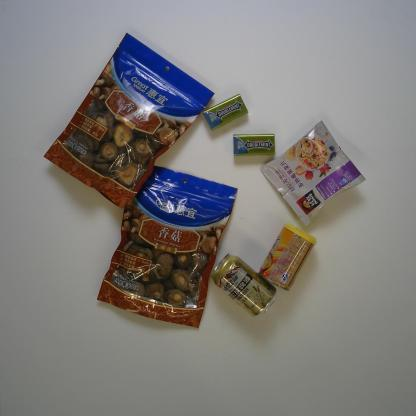Alcohol: (210, 252, 277, 318)
Canned Food: (257, 222, 318, 292)
Dried Food: (42, 32, 217, 210), (95, 165, 239, 329)
Gum: (202, 93, 249, 132), (232, 132, 276, 156)
Instant Drink: (260, 120, 367, 227)
